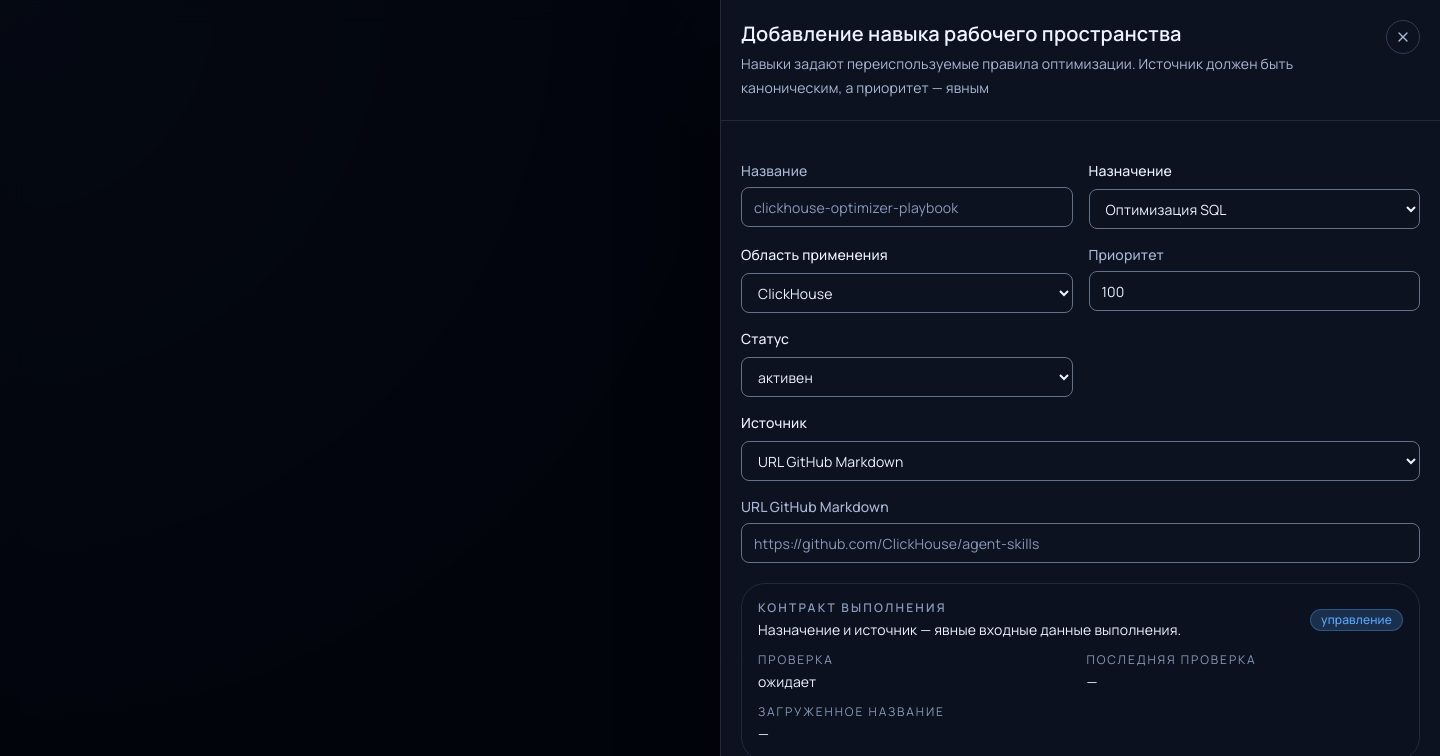
Test: SkillSheet › switches to manual chat skill input
Select "Инструкции для чата" in the dropdown labelled "Назначение" at [1254, 209], box [1088,189,1420,229]
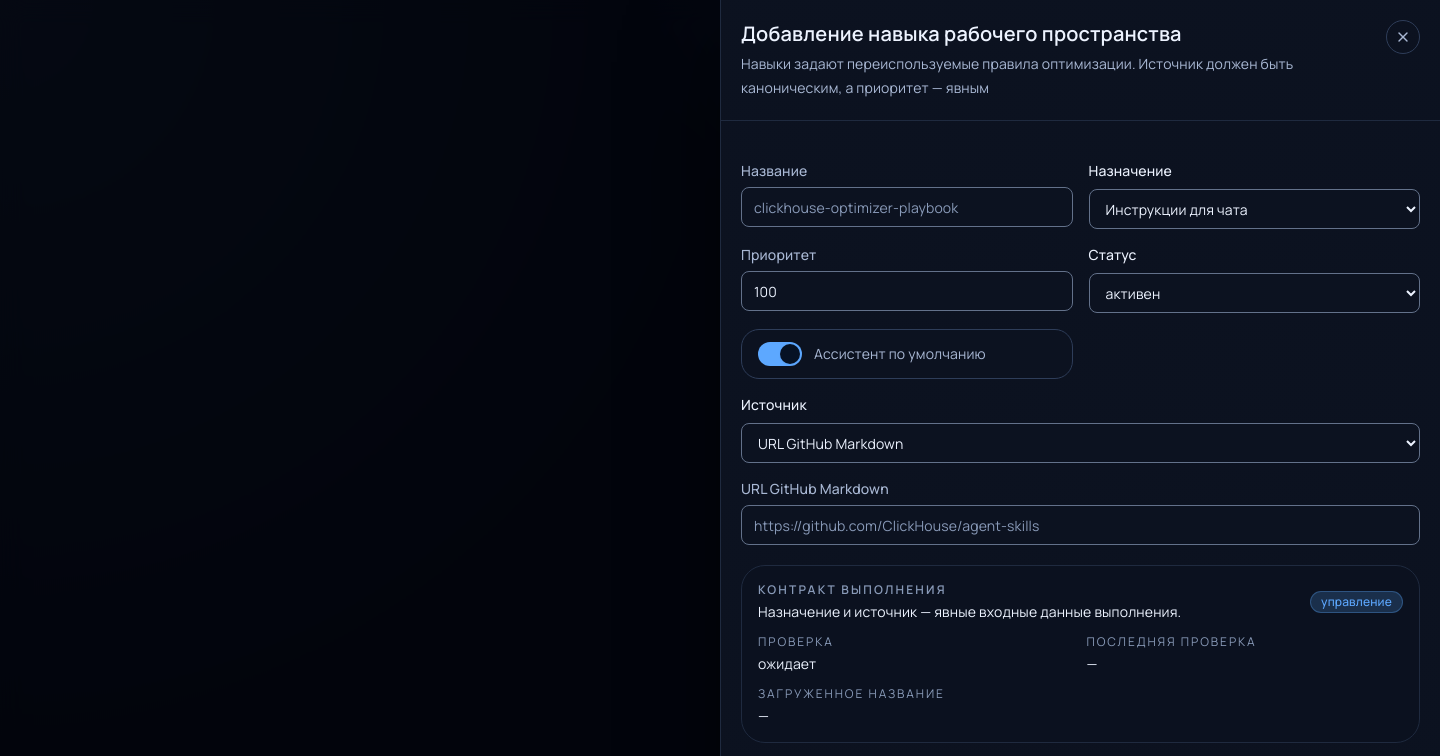
Select "Ручной текст" in the dropdown labelled "Источник" at [1080, 443], box [741,423,1420,463]
(page scrolled)
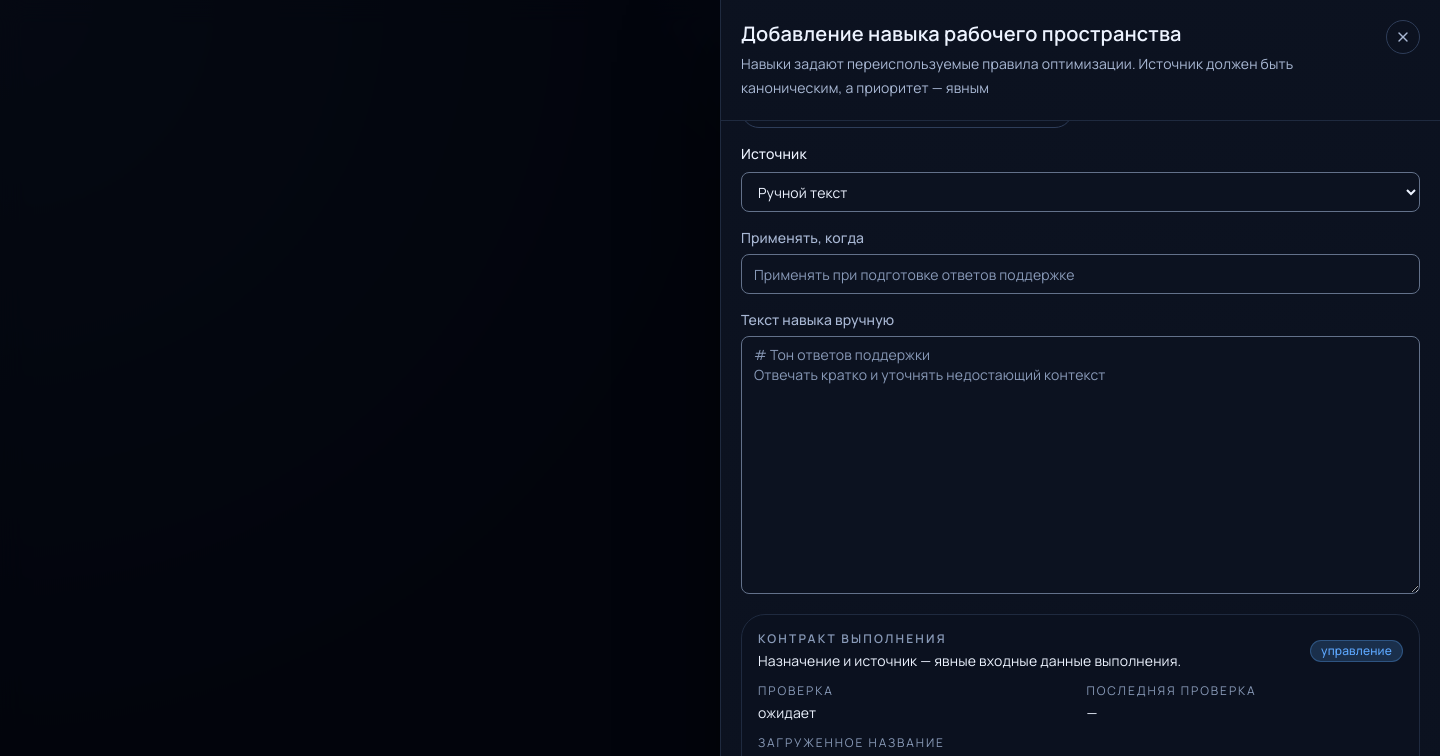
Expected: the text "Область применения" is not shown
Now the field labelled "Применять, когда" is shown, box [741,254,1420,294]
Now the text box labelled "Текст навыка вручную" is shown, box [741,336,1420,594]
